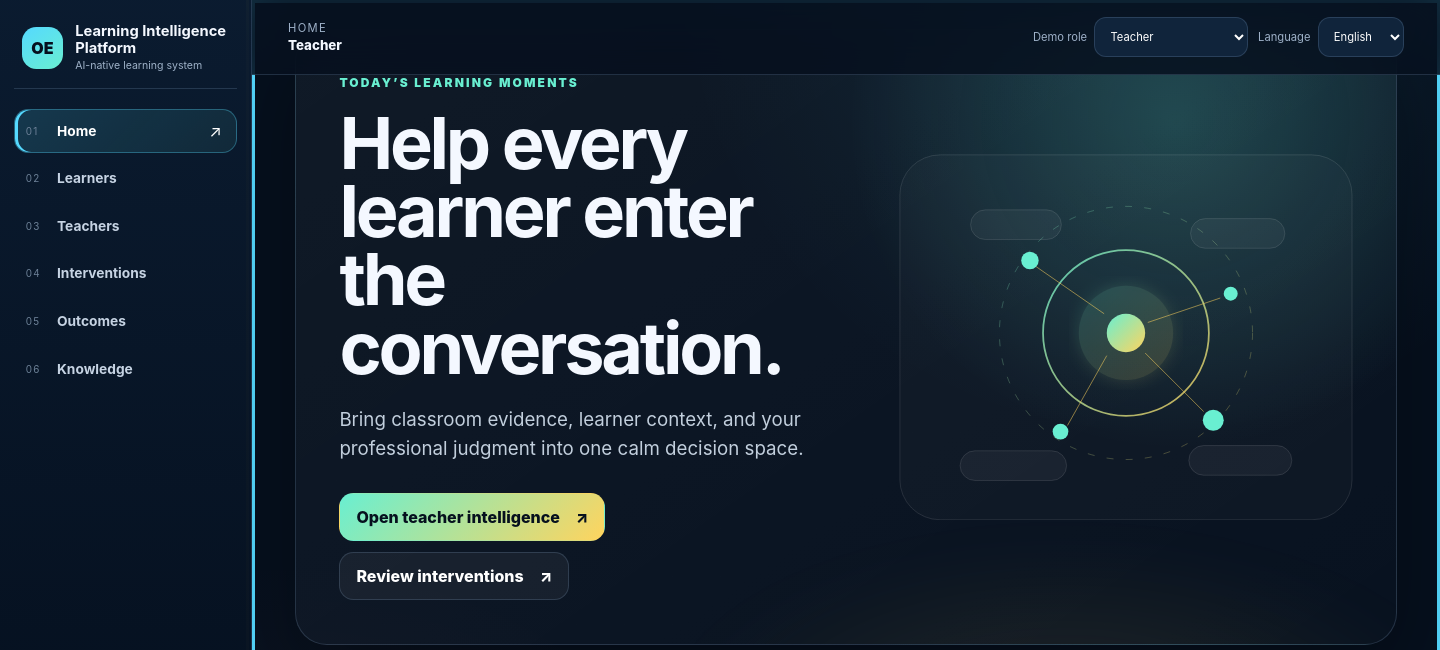
Scenario: P-001A cinematic role-aware shell › changes the composition for every role
(page scrolled)
Select "Learner" in the dropdown labelled "Demo role" at (1171,37), box [1094,17,1248,58]
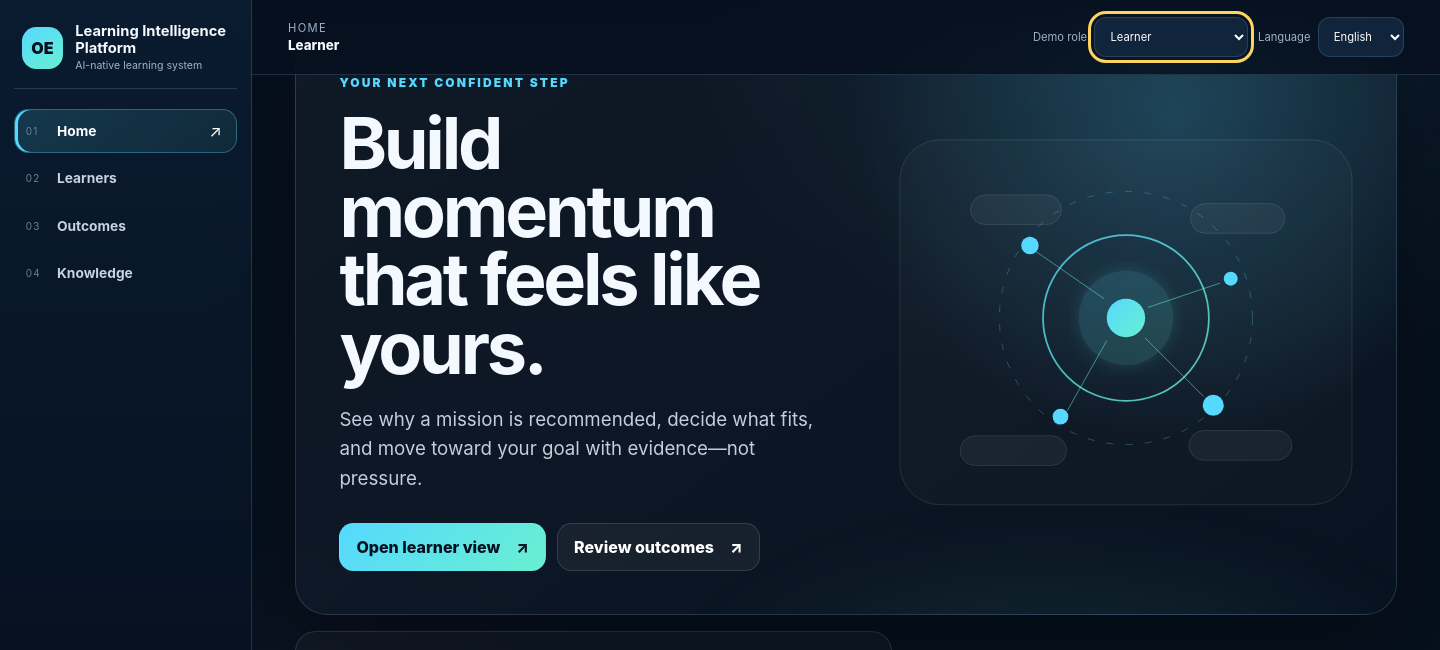
Now the heading "Build momentum that feels like yours." is shown, box [339,98,759,391]
Select "Operations" in the dropdown labelled "Demo role" at (1171,37), box [1094,17,1248,58]
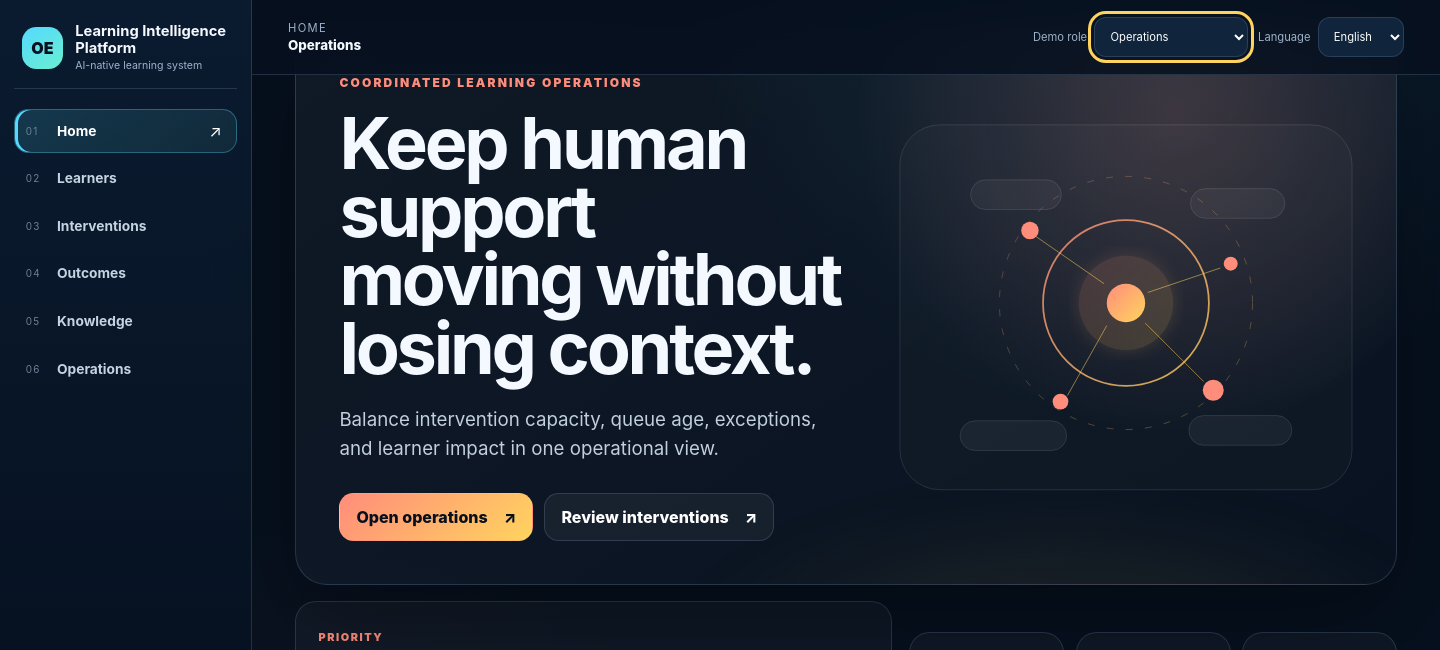
Now the heading "Keep human support moving without losing context." is shown, box [339,108,841,382]
Select "Governance / Admin" in the dropdown labelled "Demo role" at (1171,37), box [1094,17,1248,58]
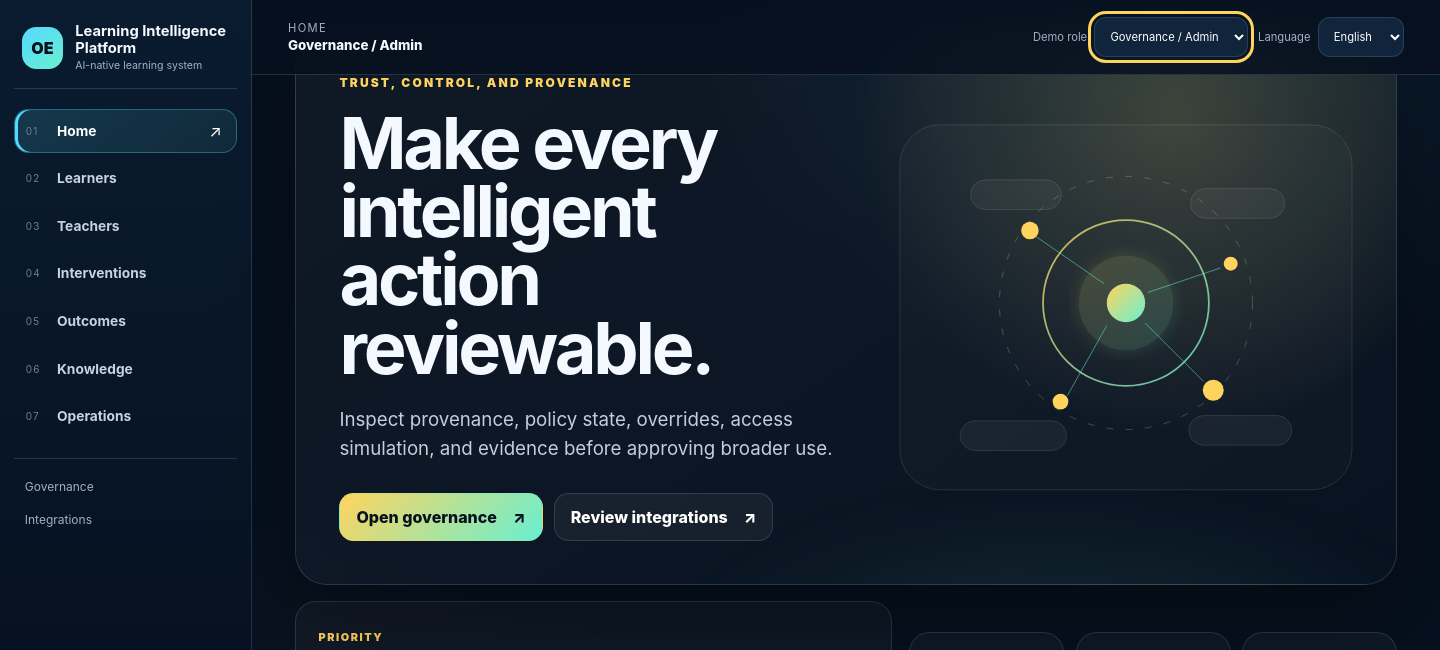
Now the heading "Make every intelligent action reviewable." is shown, box [339,98,716,391]
